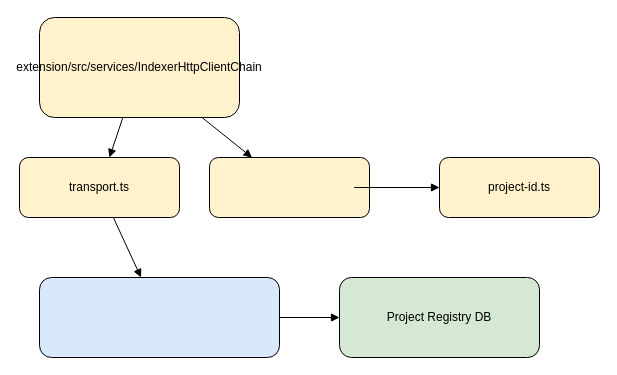
The diagram is 617 pixels wide and 375 high, and some of its shapes have lost their labels. Each missing label, with the centre of its shape:
"backend/src/server/routes/admin/context.ts" belongs at point (159, 317).
"http-core.ts" belongs at point (289, 187).
